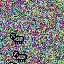sheep: (12, 50, 27, 62), (10, 32, 24, 44)
